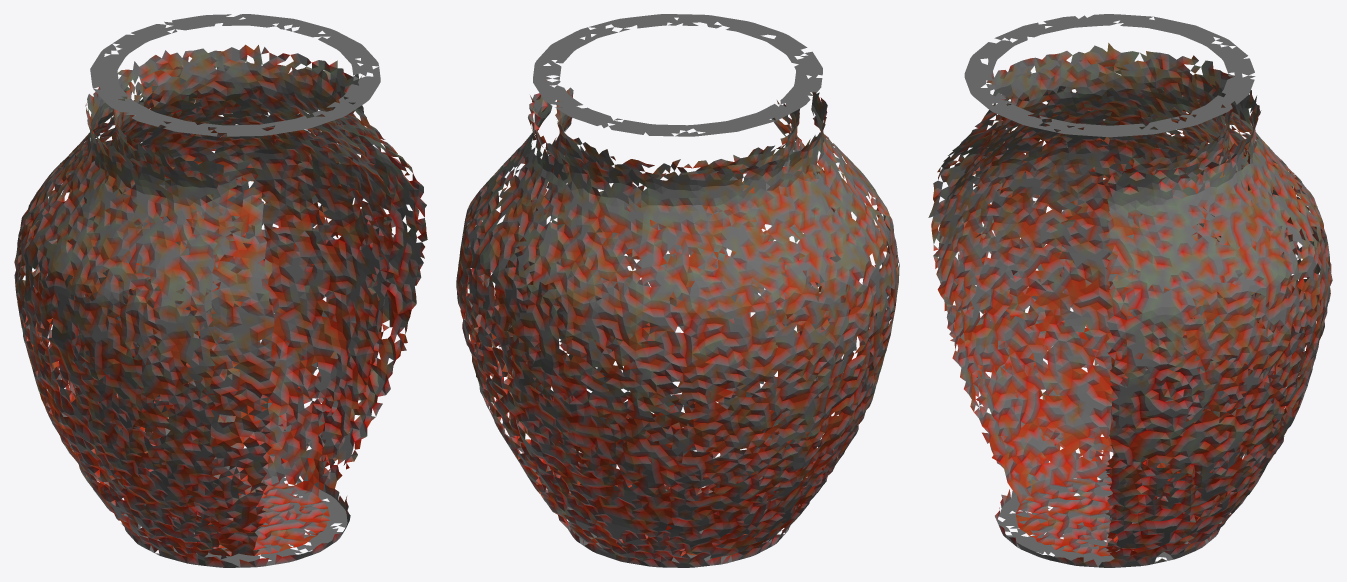
The model's file is vase_final100.obj.
The picture shows the model from 3 angles, left to right: view 1: azimuth 30°, elevation 25°; view 2: azimuth 150°, elevation 25°; view 3: azimuth 270°, elevation 25°; orthographic projection.
Bounding box in the file's own units: 1.53 × 1.69 × 1.39.
